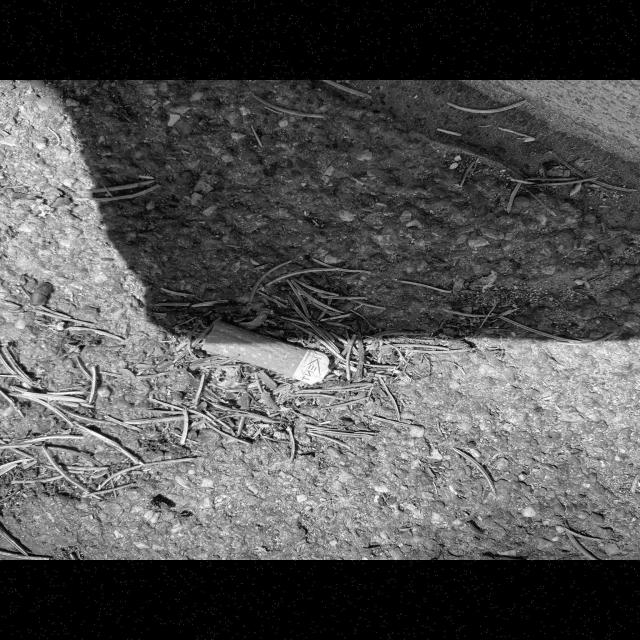other waste: (200, 318, 330, 385)
